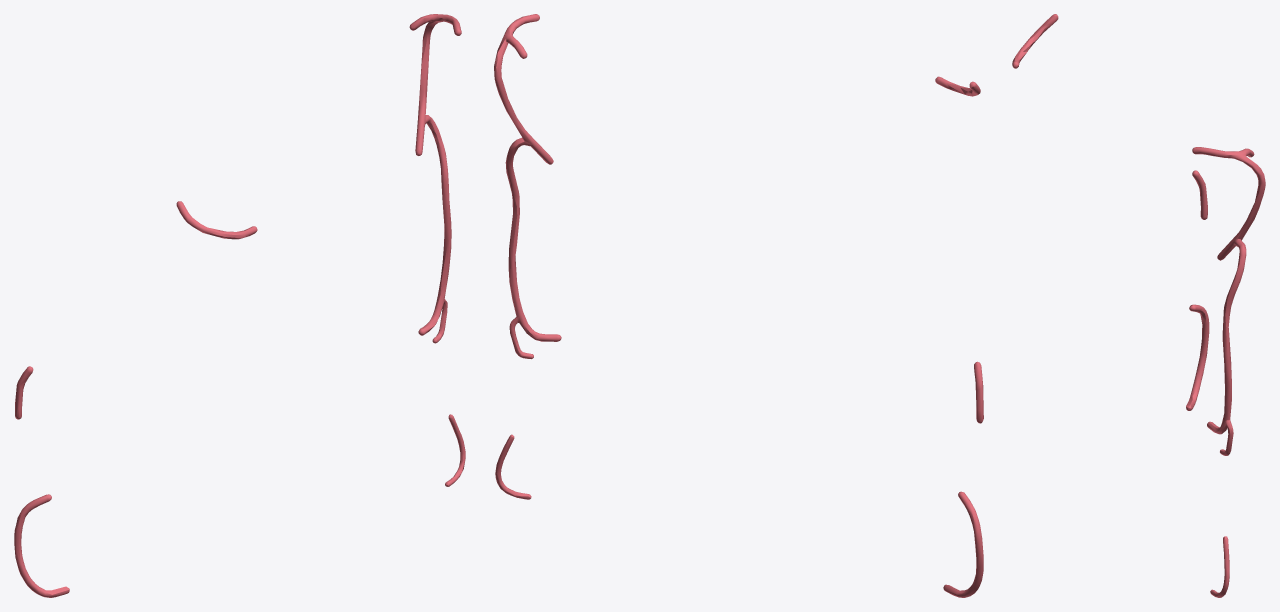
File: fma14831_fj3534.glb
3 views of the same model, side by side, from view 1: azimuth 30°, elevation 25°; view 2: azimuth 150°, elevation 25°; view 3: azimuth 270°, elevation 25° (orthographic). The views are drawn at different scales.
Parts seen in each view (by area): view 1: FMA14831_FJ3534; view 2: FMA14831_FJ3534; view 3: FMA14831_FJ3534.
Boxes of the visible parts, x1=… form: FMA14831_FJ3534: x1=14, y1=14, x2=465, y2=597; FMA14831_FJ3534: x1=494, y1=14, x2=983, y2=597; FMA14831_FJ3534: x1=1012, y1=14, x2=1265, y2=597.
Size of the model in its own units: 0.1389 by 0.1347 by 0.0684.
